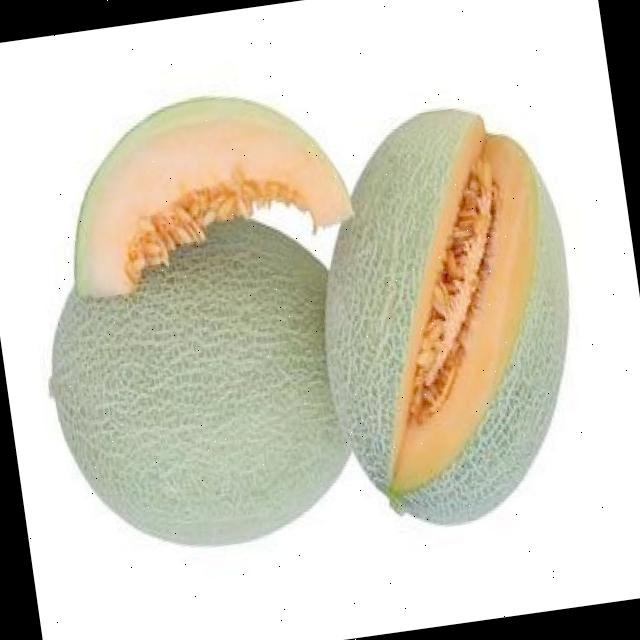Hami Melon: (294, 94, 598, 543), (29, 204, 361, 569), (54, 76, 359, 294)
